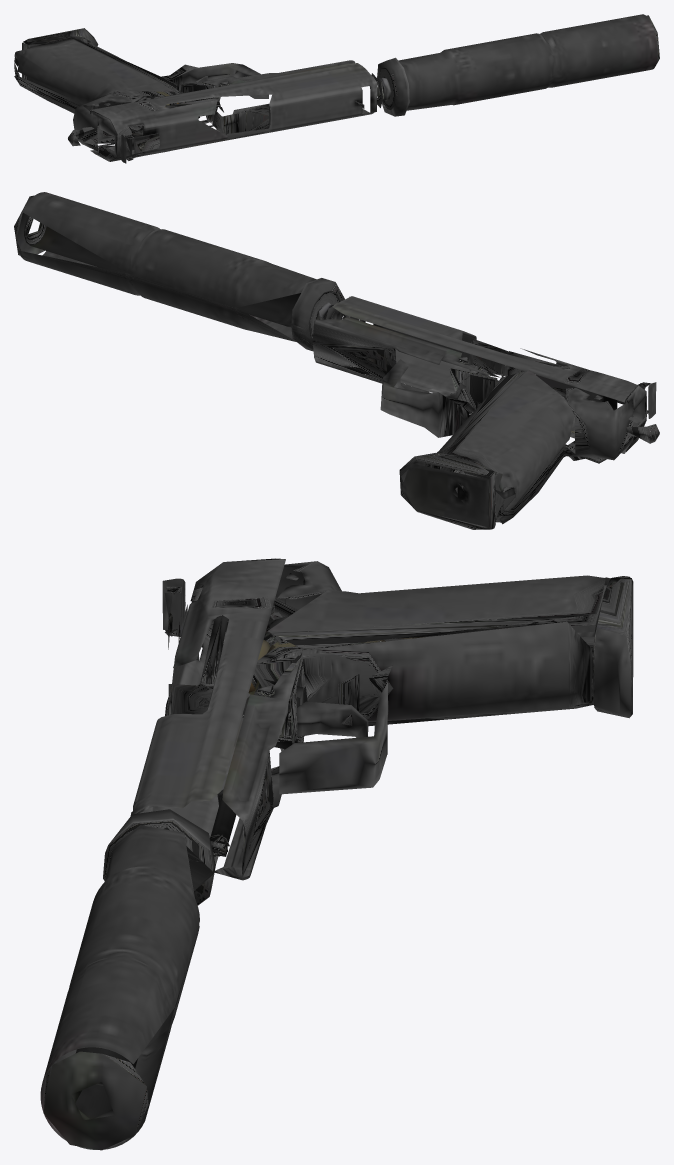
The model's file is p_usp.glb.
3 renders of one model, top to bottom at view 1: azimuth 30°, elevation 25°; view 2: azimuth 150°, elevation 25°; view 3: azimuth 270°, elevation 25°, orthographic. The views are drawn at different scales.
Parts seen in each view (by area): view 1: p_usp; view 2: p_usp; view 3: p_usp.
Part boxes in pixels (x1=…): p_usp: x1=14, y1=14, x2=659, y2=163; p_usp: x1=14, y1=192, x2=659, y2=529; p_usp: x1=40, y1=558, x2=633, y2=1150.
Bounding box in the file's own units: 0.5544 × 0.0601 × 0.2644.
1 material, 1 textured.
